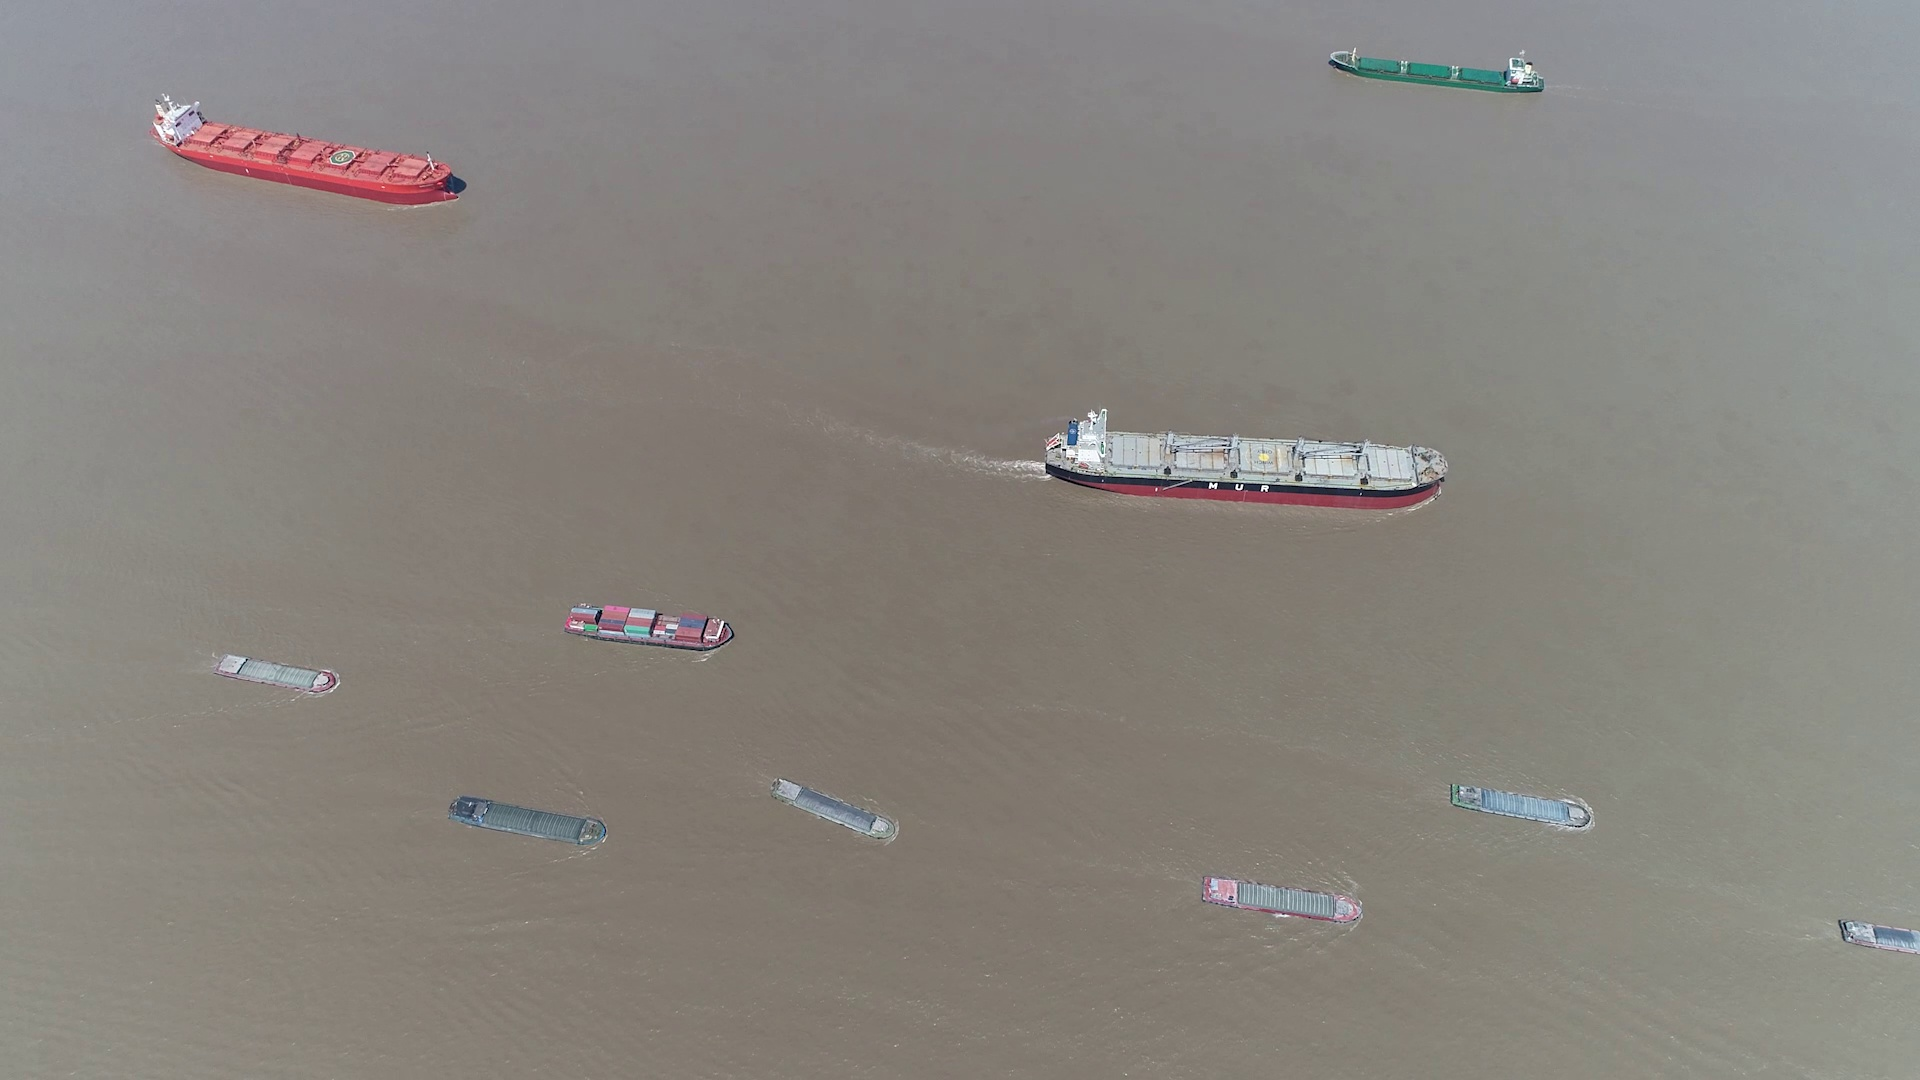ship: (1044, 415, 1443, 508), (152, 95, 458, 206), (1327, 47, 1547, 94), (564, 603, 737, 651), (450, 795, 607, 844), (1203, 876, 1364, 922), (775, 781, 895, 841), (1449, 782, 1593, 829), (214, 653, 339, 694), (1838, 919, 1920, 956)
